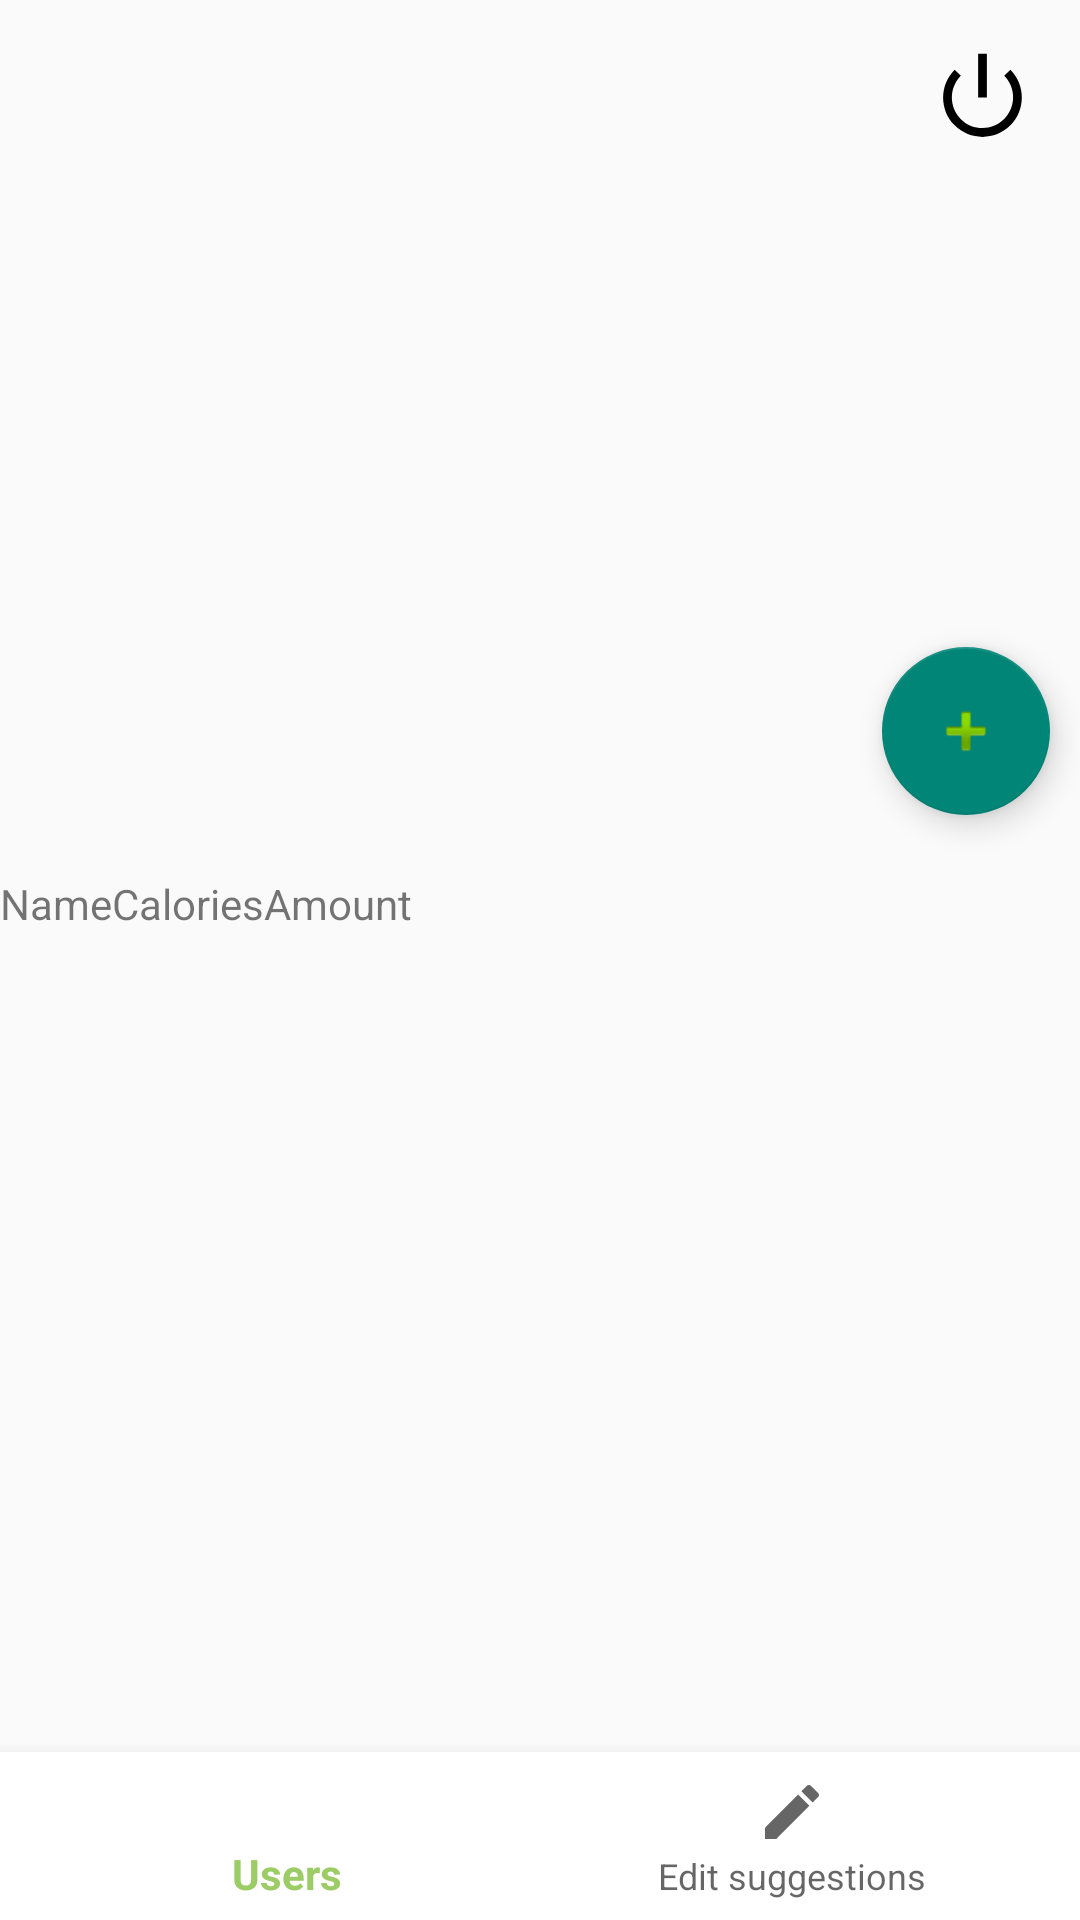

Screen size 1080×1920. Icon name, then its box in pixels as (x1, y1, x2, y2):
add: (882, 647, 1050, 815)
lock power off: (943, 53, 1022, 137)
